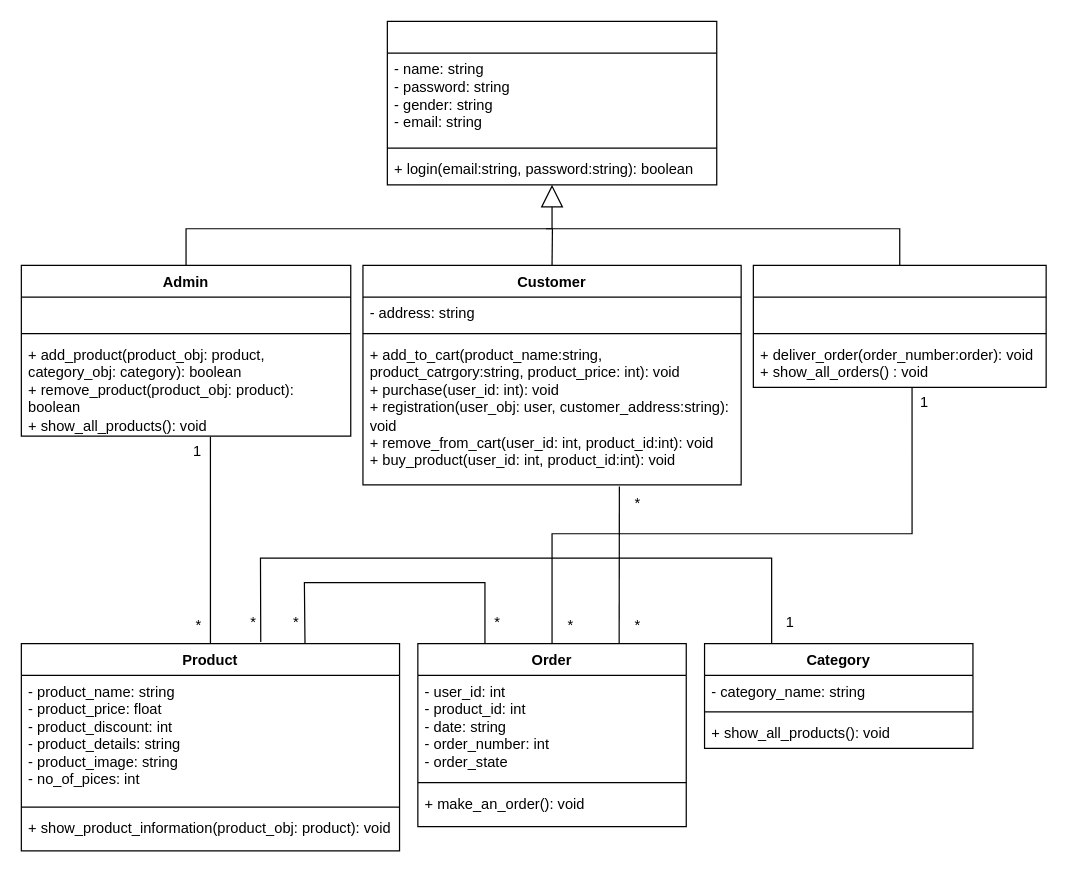
This 1068x876 diagram has some shape labels left out. The shapes that lost their labels are listed below. From the top down, each one's box as (x1, y1, x2, y2) in pixels, then its label:
(386, 20, 717, 185): User
(752, 264, 1046, 387): Delvariy Man
